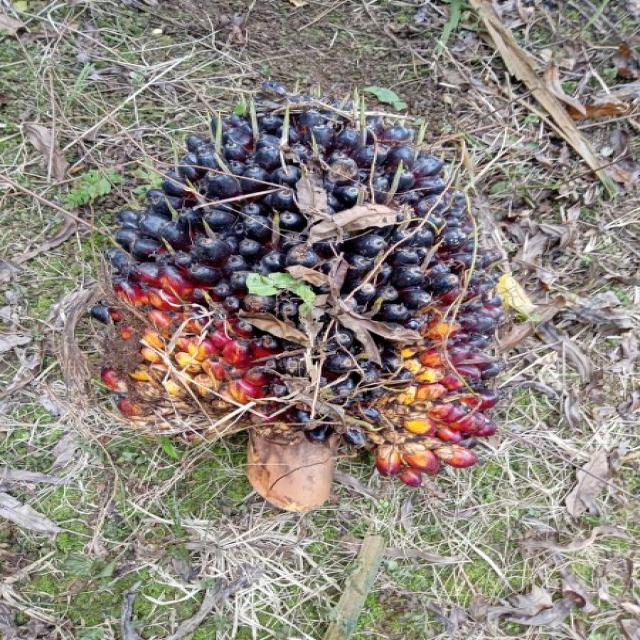fraksi 00: (84, 92, 516, 480)
